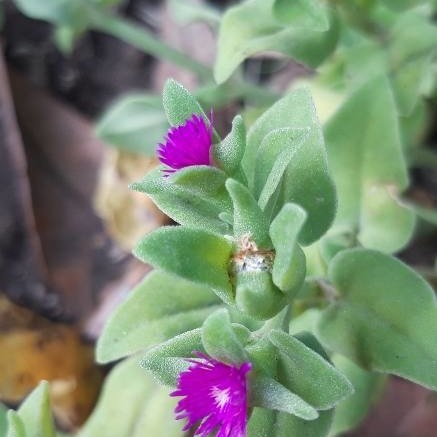obstacle: (106, 80, 372, 409)
